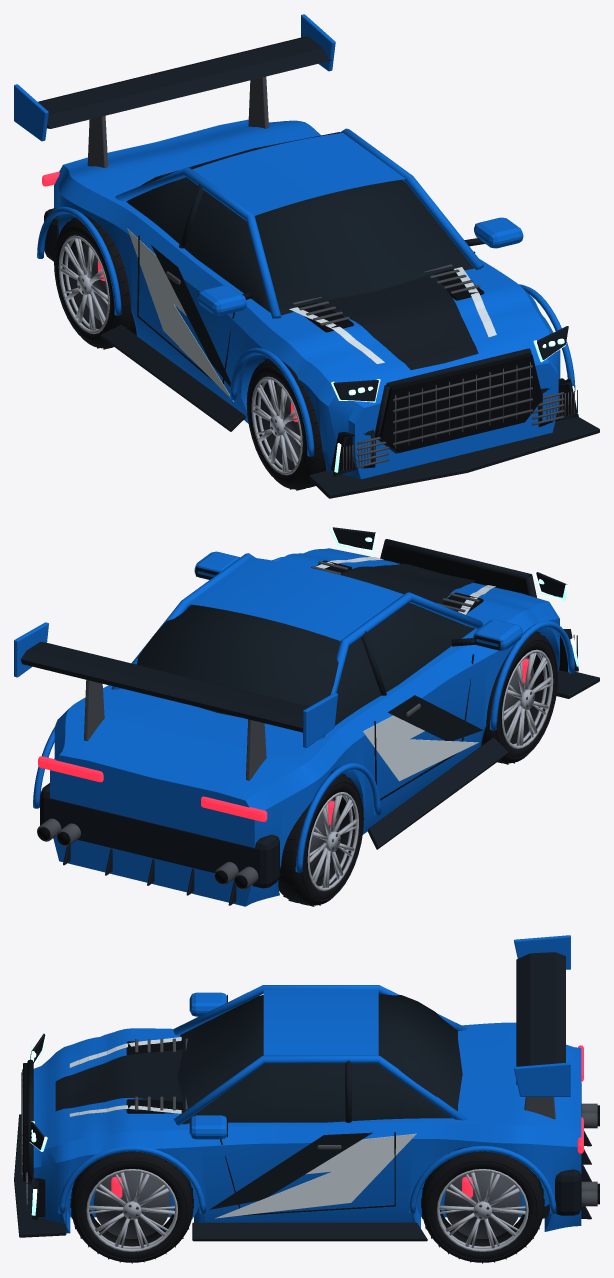
The model's file is striker.glb.
The picture shows the model from 3 angles, top to bottom: view 1: azimuth 30°, elevation 25°; view 2: azimuth 150°, elevation 25°; view 3: azimuth 270°, elevation 25°; orthographic projection. The views are drawn at different scales.
Visible parts, largest first — view 1: body, wheel_rl_spin_mesh, wheel_fl_spin_mesh; view 2: body, wheel_rl_spin_mesh, wheel_fl_spin_mesh; view 3: body, wheel_rr_spin_mesh, wheel_fr_spin_mesh.
Boxes of the visible parts, x1,y1,x2,y2 form: body: (14, 14, 599, 498); wheel_rl_spin_mesh: (54, 215, 136, 349); wheel_fl_spin_mesh: (246, 358, 326, 490); body: (14, 527, 599, 906); wheel_rl_spin_mesh: (278, 771, 363, 906); wheel_fl_spin_mesh: (481, 631, 557, 764); body: (14, 935, 599, 1241); wheel_rr_spin_mesh: (421, 1146, 544, 1263); wheel_fr_spin_mesh: (70, 1151, 193, 1263).
Bounding box in the file's own units: 2.56 × 1.82 × 4.6.
